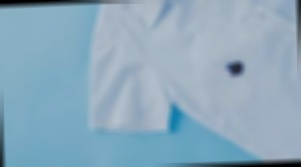ink: (226, 62, 244, 77)
